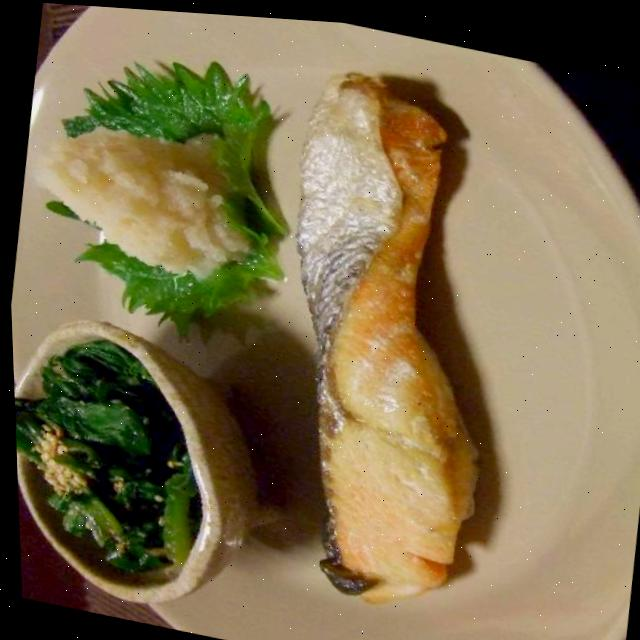熟制海鲜: (252, 173, 545, 640)
